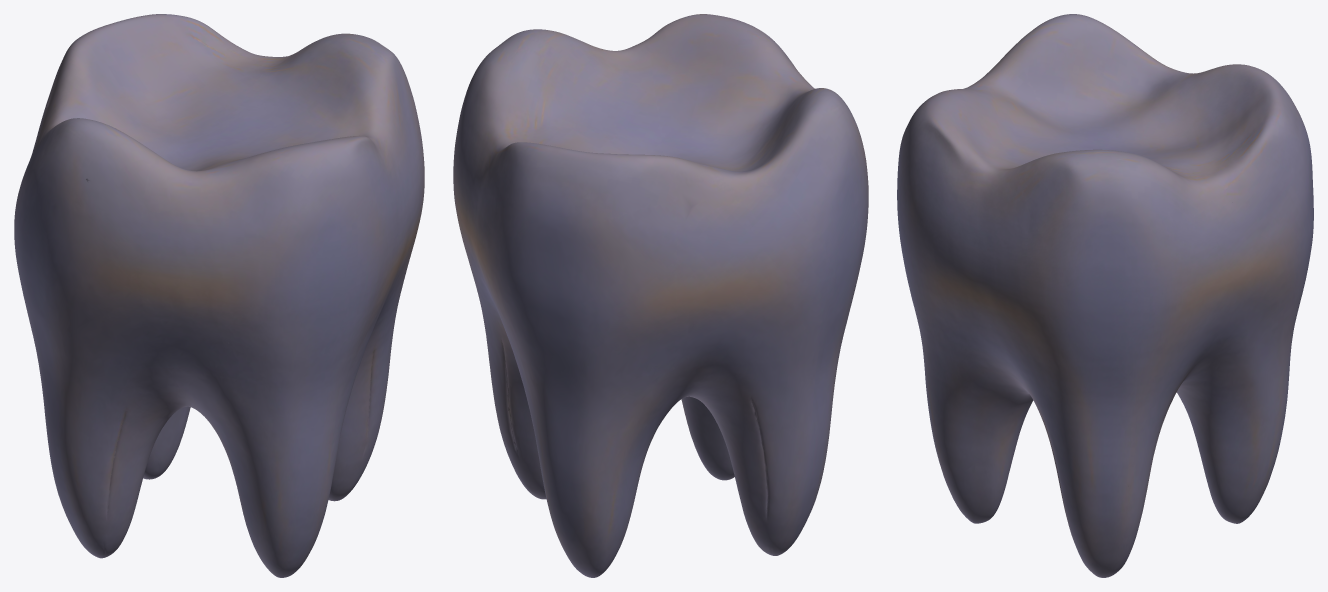
Rendered from tooth.glb.
The picture shows the model from 3 angles, left to right: view 1: azimuth 30°, elevation 25°; view 2: azimuth 150°, elevation 25°; view 3: azimuth 270°, elevation 25°; orthographic projection. The views are drawn at different scales.
Visible parts, largest first — view 1: tripo_node_64bab730-2d2a-4414-9537-8005fa8d7444; view 2: tripo_node_64bab730-2d2a-4414-9537-8005fa8d7444; view 3: tripo_node_64bab730-2d2a-4414-9537-8005fa8d7444.
Part boxes in pixels (x1,y1,x2,y2): tripo_node_64bab730-2d2a-4414-9537-8005fa8d7444: (14,14,424,577); tripo_node_64bab730-2d2a-4414-9537-8005fa8d7444: (453,14,868,577); tripo_node_64bab730-2d2a-4414-9537-8005fa8d7444: (897,14,1313,577).
Size of the model in its own units: 0.8595 by 1 by 0.863.
1 material, 1 textured.
